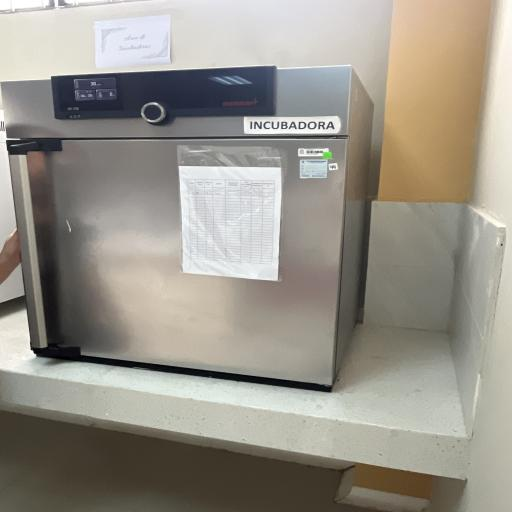Incubadora: (0, 64, 401, 395)
